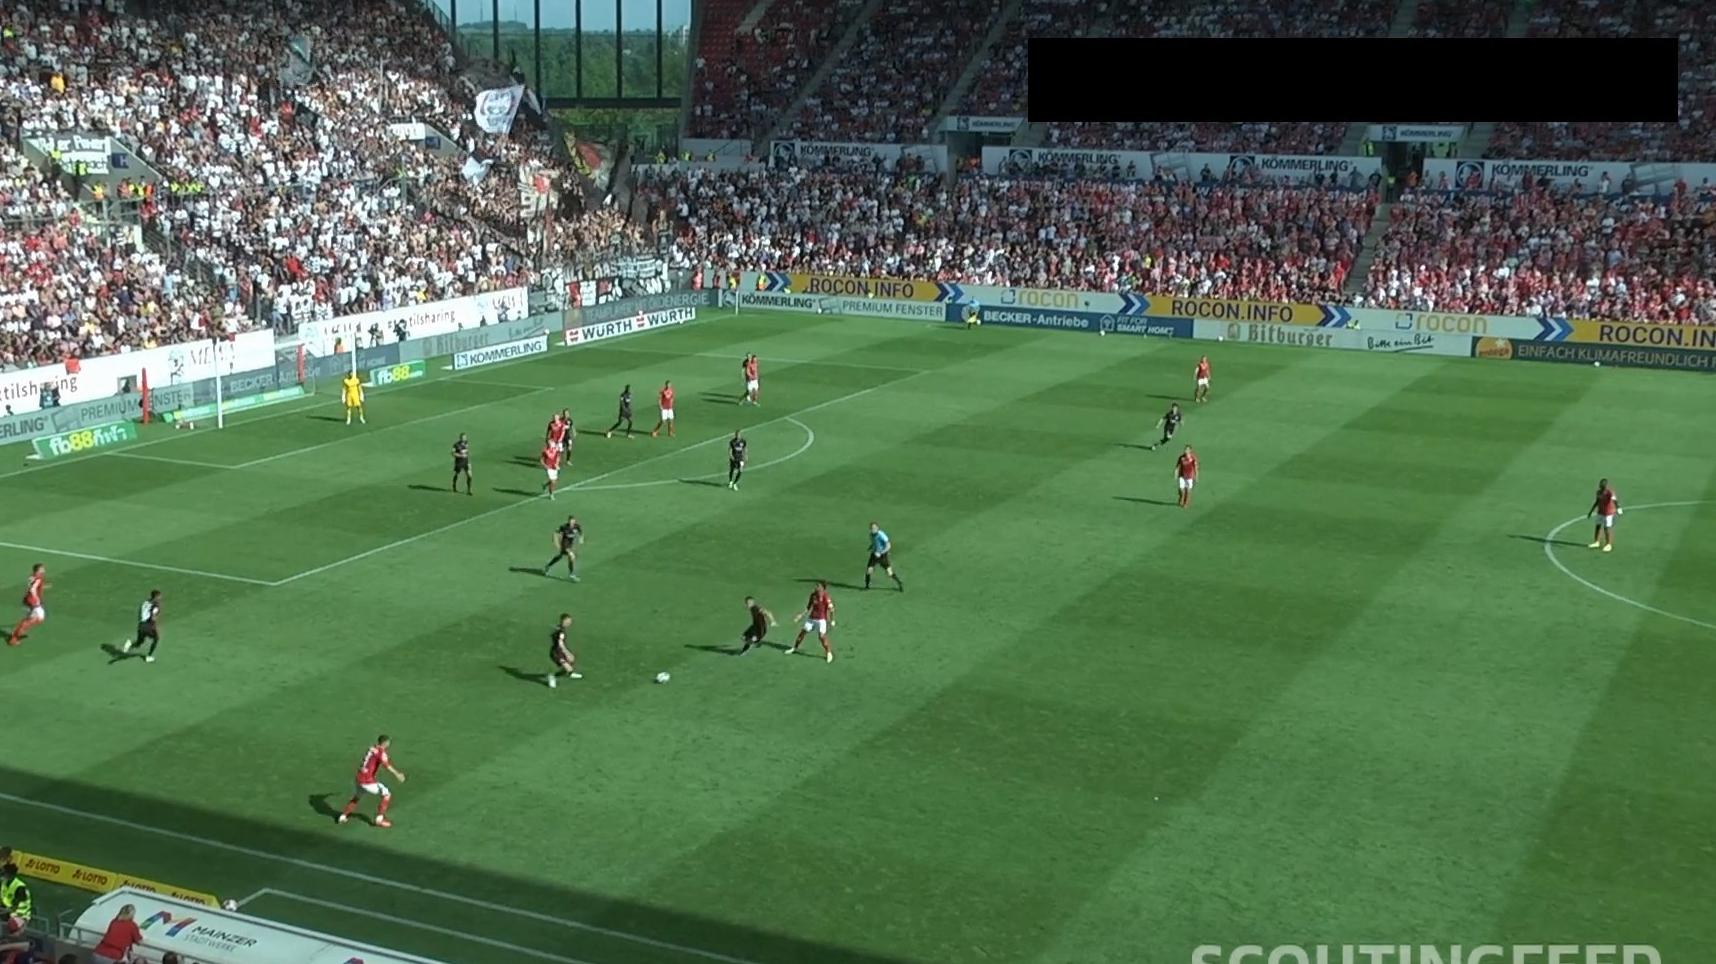ball: (655, 671, 672, 684)
